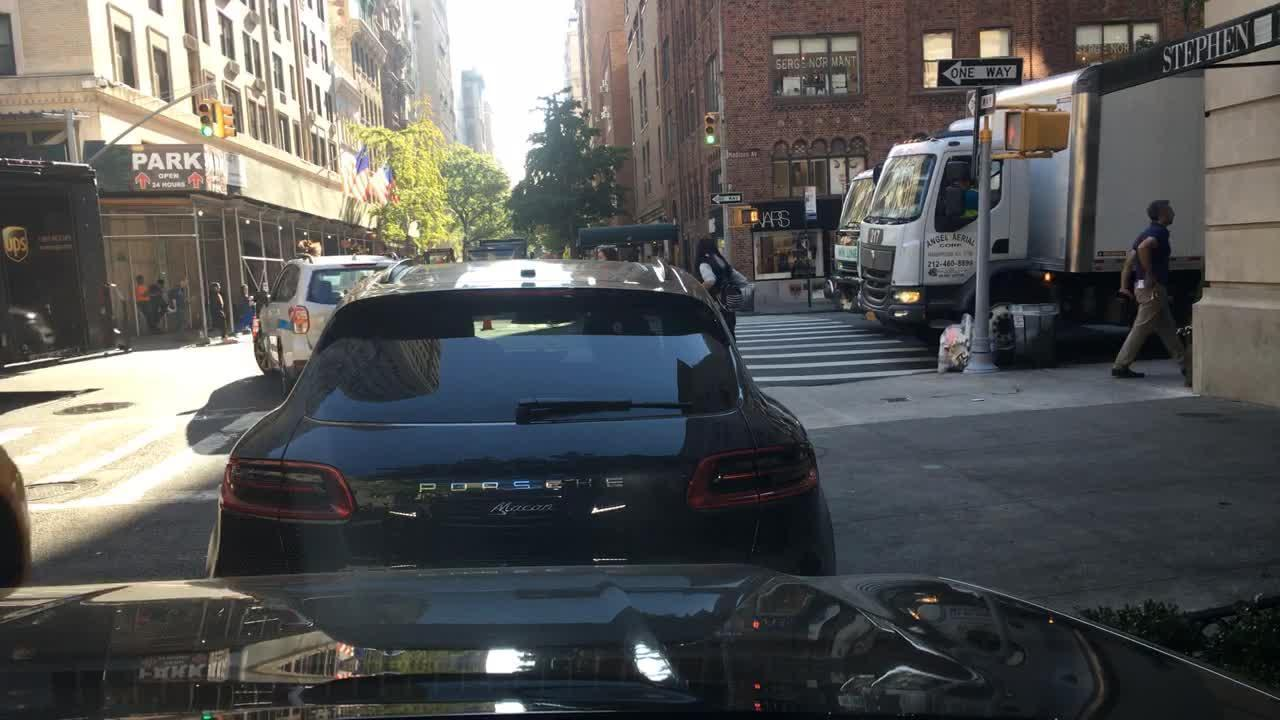porsche: (414, 476, 628, 499)
